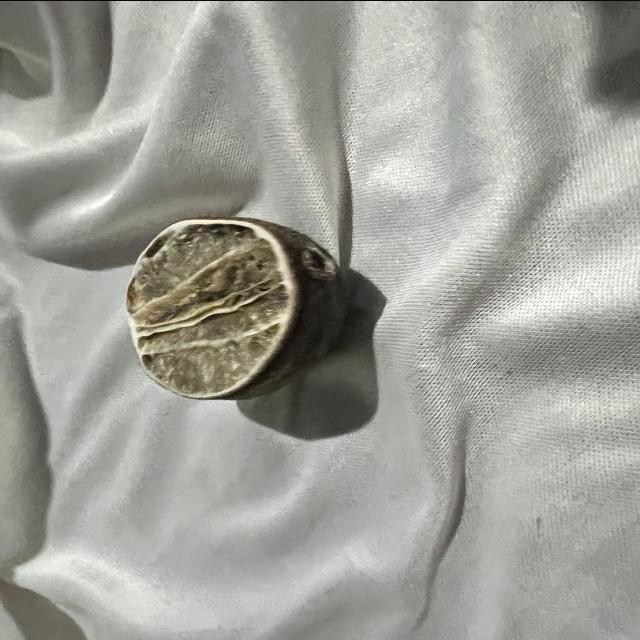Infectious: (0, 1, 639, 640)
Sharps: (123, 215, 348, 402)
